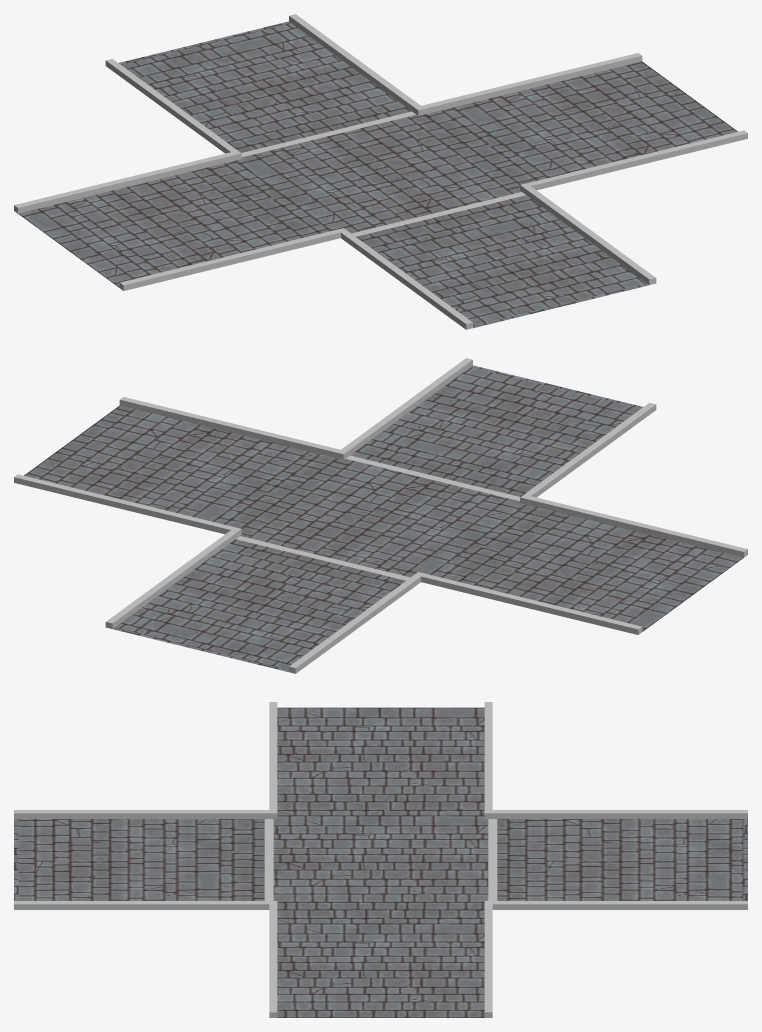
The model's file is Road_Intersection.FBX.
The picture shows the model from 3 angles, top to bottom: view 1: azimuth 30°, elevation 25°; view 2: azimuth 150°, elevation 25°; view 3: azimuth 270°, elevation 25°; orthographic projection.
Visible parts, largest first — view 1: Road_Intersection; view 2: Road_Intersection; view 3: Road_Intersection.
Boxes of the visible parts, <box> form: Road_Intersection: <box>14,14,747,329</box>; Road_Intersection: <box>14,358,747,673</box>; Road_Intersection: <box>14,702,747,1017</box>.
Bounding box in the file's own units: 906 × 7.87 × 906.
